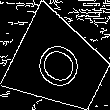O_SE: (30, 34, 90, 96)
